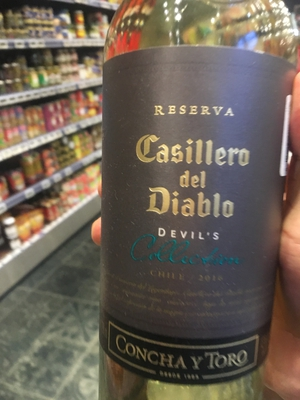casillero del diablo devils collection verde: (88, 23, 285, 400)
